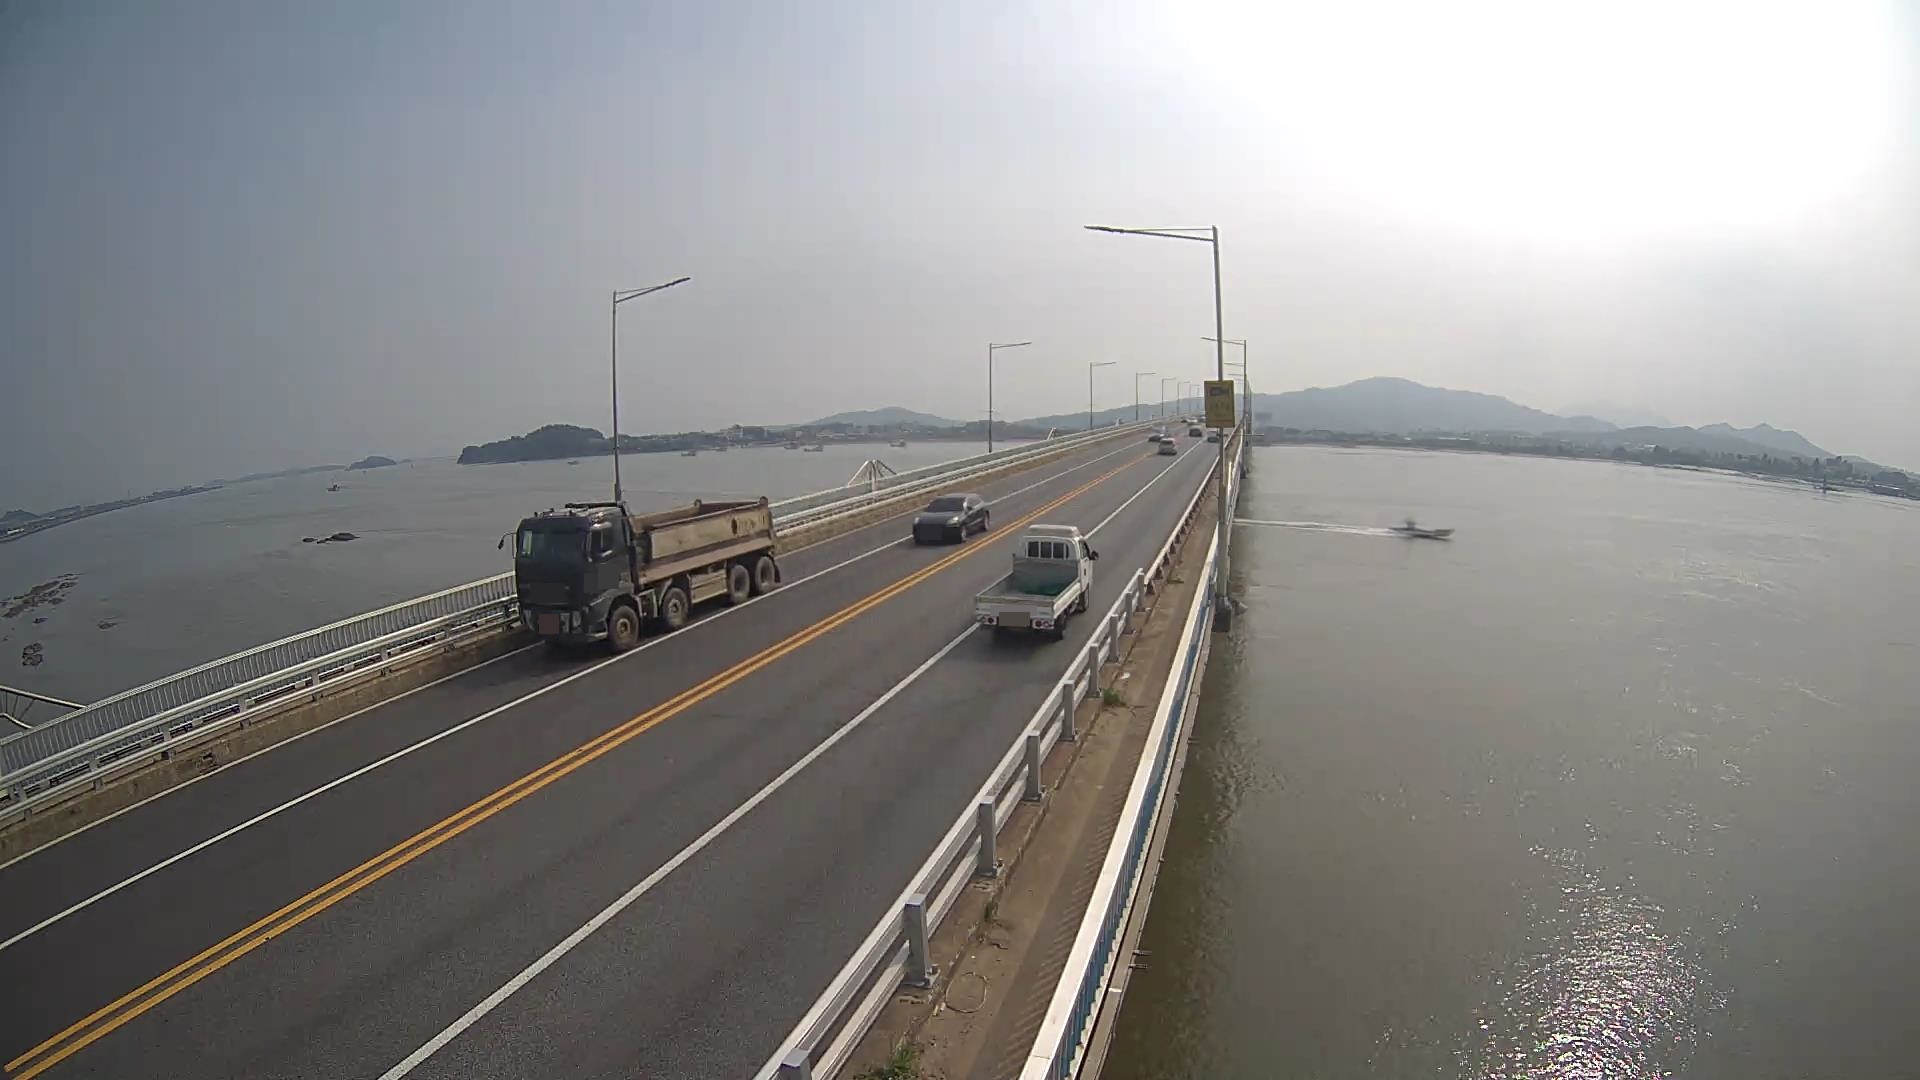정상차량: (497, 496, 781, 650)
